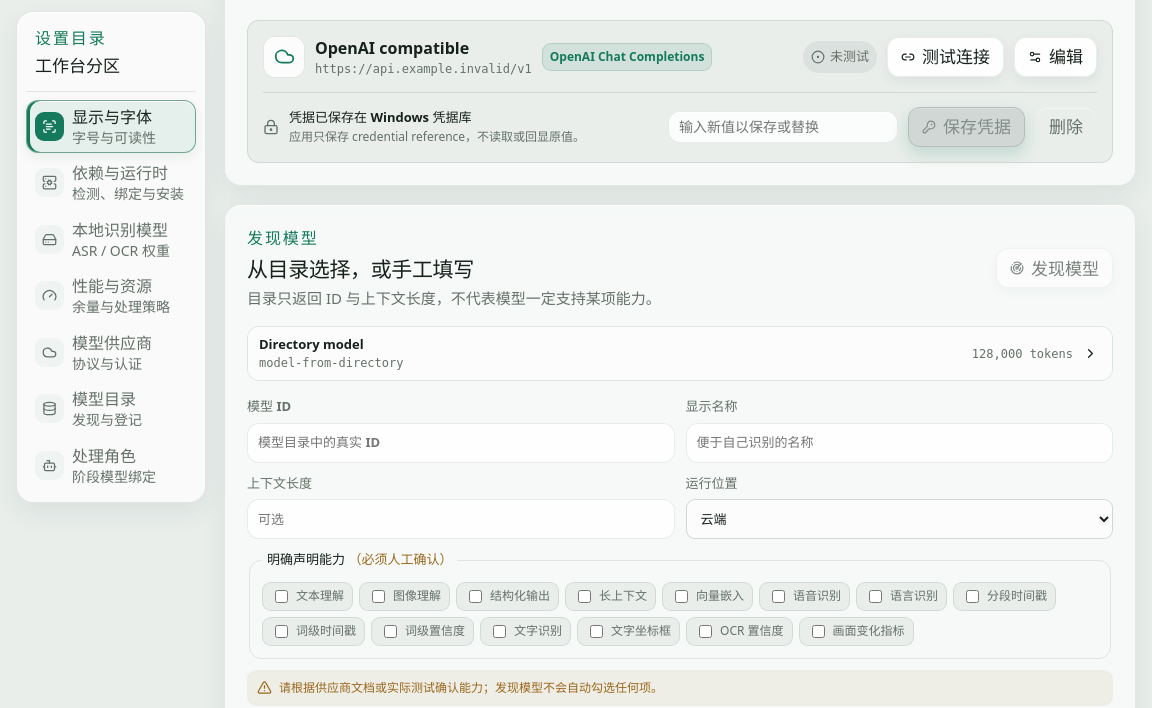
models and performance workspace › does not infer capabilities when a discovered model is selected
(page scrolled)
Click the button "Directory model model-from-directory 128,000 tokens": point(311, 344) top-left (248, 327), bottom-right (1112, 380)
(page scrolled)
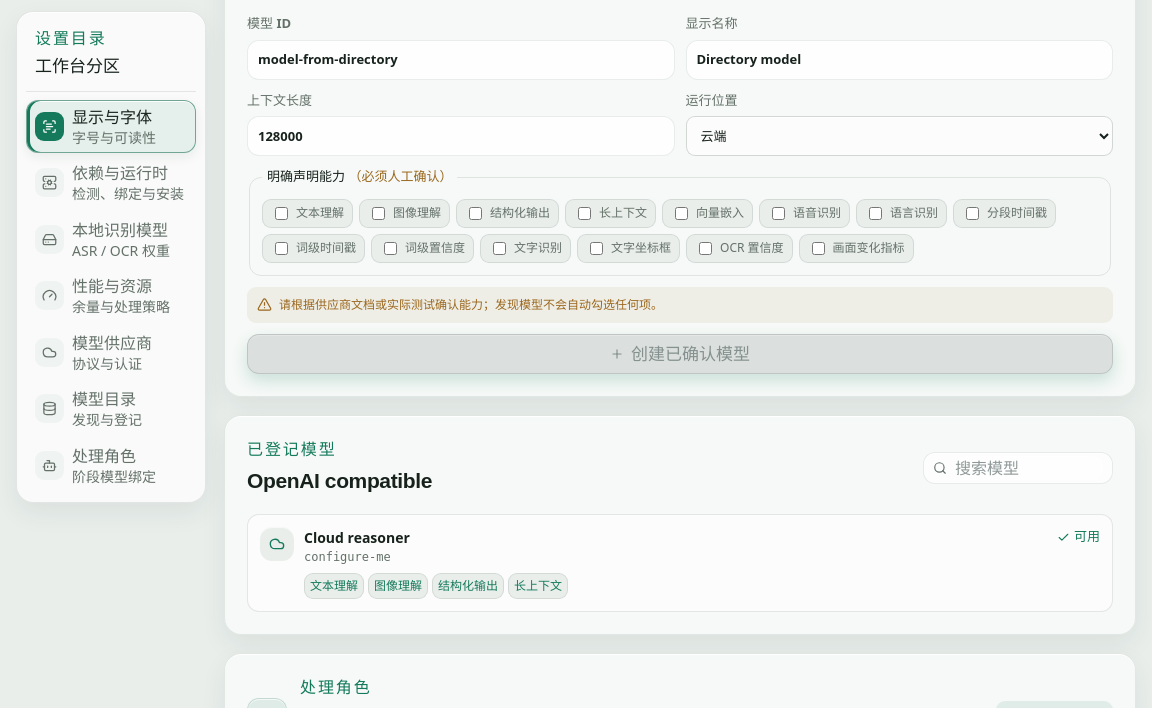
Check: the checkbox labelled "文本理解" is not checked, box top-left (275, 207), bottom-right (288, 220)
Check: the field labelled "模型 ID" holds "model-from-directory", box top-left (247, 40), bottom-right (674, 80)
